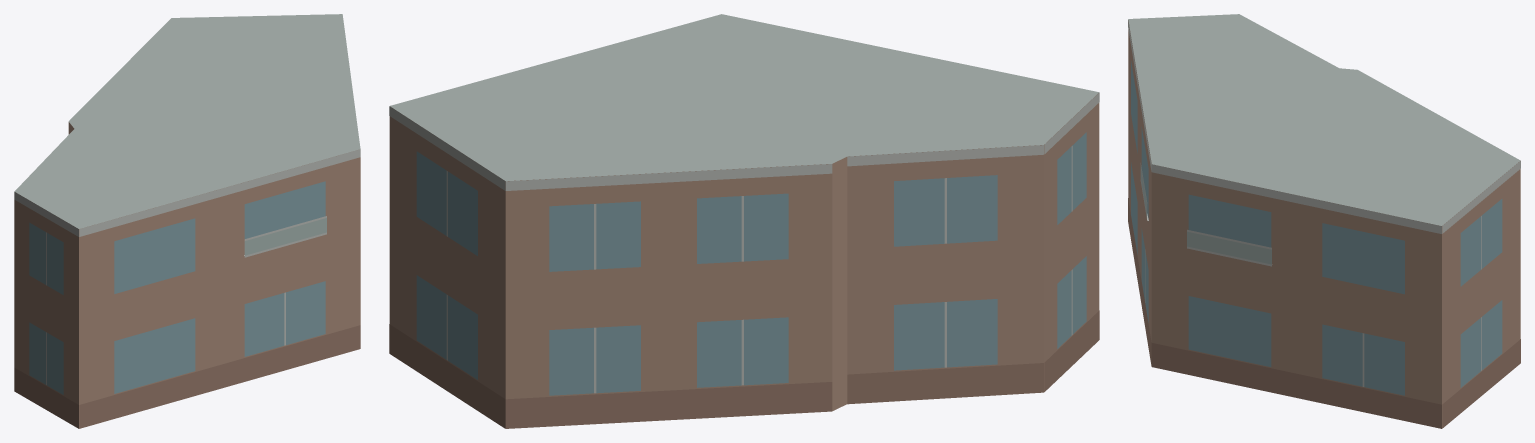
File: survey-upis-32994006.glb
The picture shows the model from 3 angles, left to right: view 1: azimuth 30°, elevation 25°; view 2: azimuth 150°, elevation 25°; view 3: azimuth 270°, elevation 25°; orthographic projection. The views are drawn at different scales.
Visible parts, largest first — view 1: survey-upis-32994006.tmp; view 2: survey-upis-32994006.tmp; view 3: survey-upis-32994006.tmp.
Boxes of the visible parts, x1,y1,x2,y2 form: survey-upis-32994006.tmp: [14, 14, 360, 428]; survey-upis-32994006.tmp: [389, 14, 1099, 428]; survey-upis-32994006.tmp: [1128, 14, 1520, 428].
Bounding box in the file's own units: 13.69 × 6.1 × 10.71.
